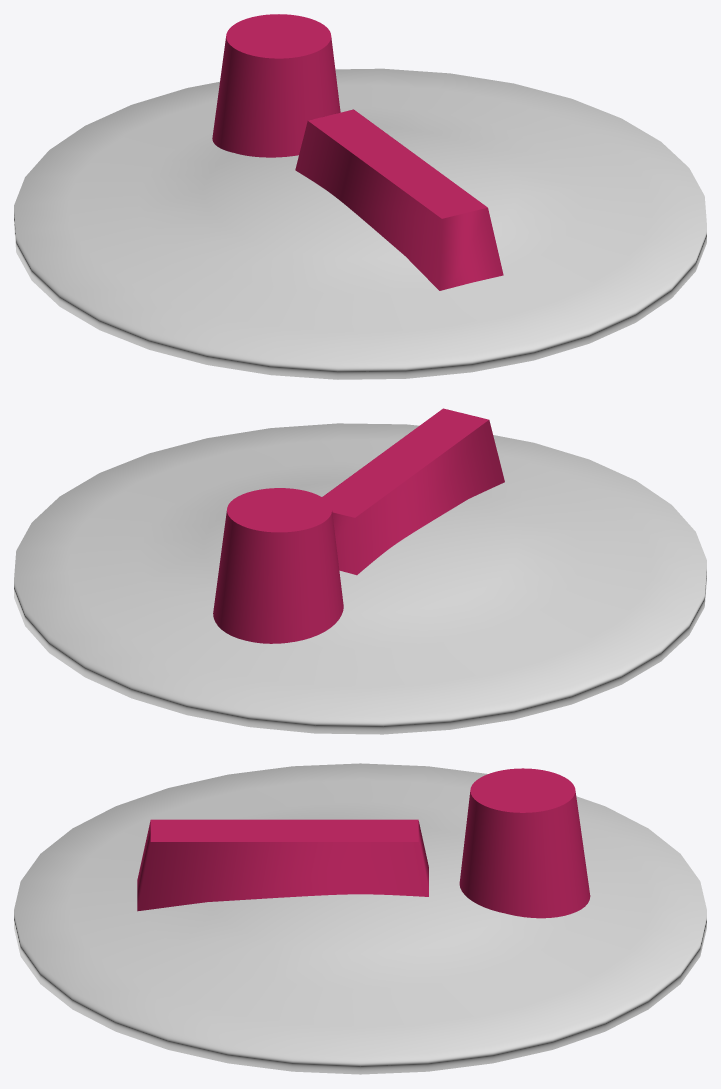
3 views of the same model, one above another, from view 1: azimuth 30°, elevation 25°; view 2: azimuth 150°, elevation 25°; view 3: azimuth 270°, elevation 25° (orthographic).
Parts seen in each view (by area): view 1: Cylinder, Text; view 2: Cylinder, Text; view 3: Cylinder, Text.
Part boxes in pixels (x1,y1,x2,y2): Cylinder: (14,68,706,379); Text: (212,14,503,290); Cylinder: (14,423,706,734); Text: (213,408,504,643); Cylinder: (14,763,706,1074); Text: (137,768,590,918).
Size of the model in its own units: 2 by 0.437 by 2.
